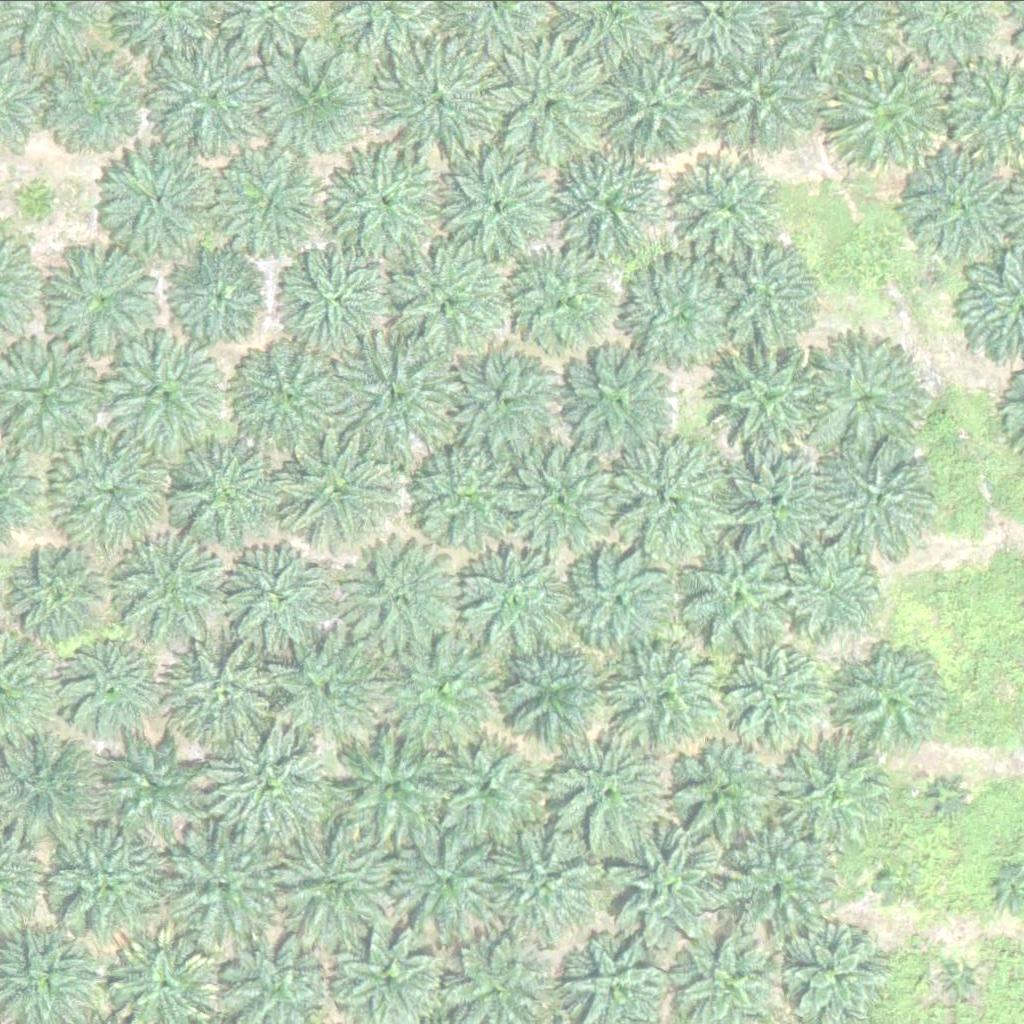Kelapa_Sawit: (154, 32, 280, 157), (228, 333, 354, 458), (47, 426, 173, 551), (169, 427, 295, 552), (281, 427, 407, 552), (160, 632, 286, 757), (271, 624, 397, 749), (206, 728, 332, 853), (41, 820, 167, 945), (161, 822, 287, 947), (276, 832, 402, 957), (384, 816, 510, 941), (478, 818, 604, 943), (613, 823, 739, 948), (728, 823, 854, 948), (323, 726, 449, 851), (422, 722, 548, 847), (543, 726, 669, 851), (656, 736, 782, 861), (378, 634, 504, 759), (460, 540, 586, 665), (337, 537, 463, 662), (680, 535, 806, 660), (500, 430, 626, 555), (608, 431, 734, 556), (816, 435, 942, 560), (390, 249, 516, 374), (701, 336, 827, 461), (805, 332, 931, 457), (375, 39, 501, 164), (490, 43, 616, 168), (100, 335, 225, 460), (406, 430, 531, 555), (501, 244, 626, 369), (619, 255, 744, 380), (834, 52, 959, 177), (717, 646, 831, 759), (610, 634, 724, 747), (779, 533, 893, 646), (262, 42, 375, 155), (216, 148, 329, 261), (98, 145, 211, 258), (836, 642, 949, 755), (498, 631, 611, 744), (564, 347, 677, 460), (450, 346, 563, 459), (335, 333, 448, 446), (709, 241, 822, 354), (39, 242, 152, 354), (285, 232, 398, 344), (221, 546, 334, 658), (115, 530, 228, 642), (784, 736, 897, 848), (568, 542, 681, 654), (724, 450, 837, 562), (672, 151, 785, 263), (547, 144, 660, 256), (444, 152, 557, 264), (334, 147, 447, 259), (604, 47, 717, 159), (702, 40, 815, 152), (44, 51, 145, 151), (171, 244, 272, 344), (9, 542, 110, 642), (59, 637, 160, 737), (910, 149, 1011, 249), (100, 735, 200, 835), (15, 175, 65, 225), (922, 773, 972, 823), (937, 957, 987, 1007), (868, 854, 918, 904)
